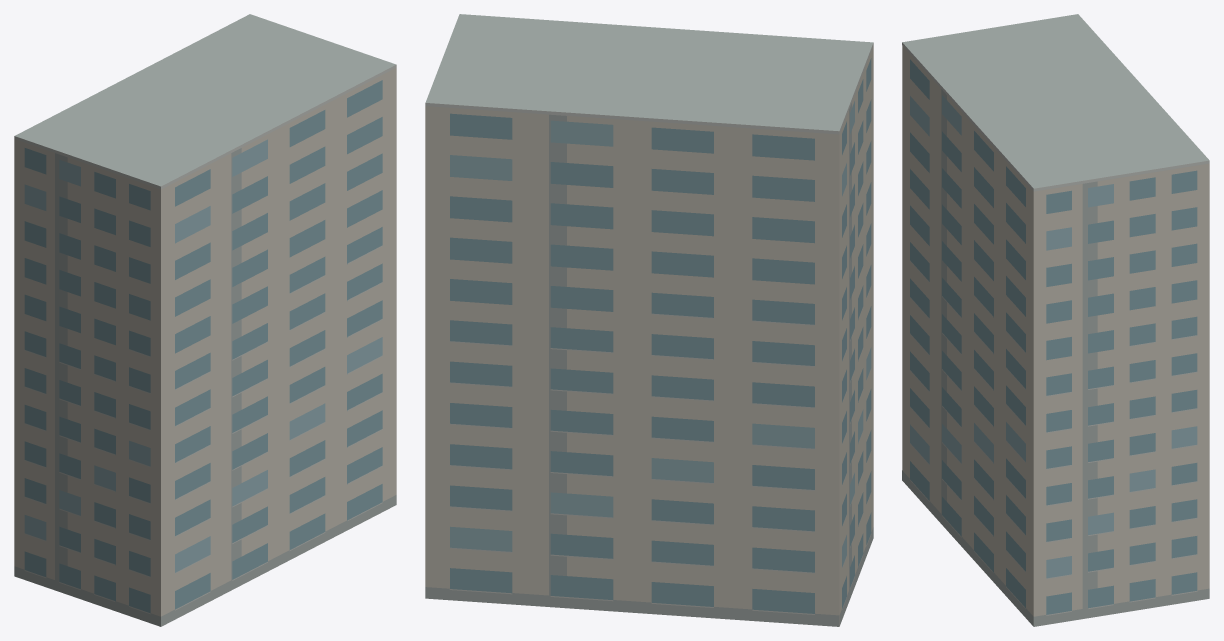
Rendered from residential-e67da96a-14fb-43ec-9d26-18fe633414aa.glb.
The picture shows the model from 3 angles, left to right: view 1: azimuth 30°, elevation 25°; view 2: azimuth 150°, elevation 25°; view 3: azimuth 270°, elevation 25°; orthographic projection. The views are drawn at different scales.
Visible parts, largest first — view 1: residential-e67da96a-14fb-43ec-9d26-18fe633414aa.tmp; view 2: residential-e67da96a-14fb-43ec-9d26-18fe633414aa.tmp; view 3: residential-e67da96a-14fb-43ec-9d26-18fe633414aa.tmp.
Boxes of the visible parts, <box> form: residential-e67da96a-14fb-43ec-9d26-18fe633414aa.tmp: <box>14,14,396,626</box>; residential-e67da96a-14fb-43ec-9d26-18fe633414aa.tmp: <box>425,14,873,626</box>; residential-e67da96a-14fb-43ec-9d26-18fe633414aa.tmp: <box>902,14,1209,626</box>.
Size of the model in its own units: 30.79 by 36 by 22.91.
